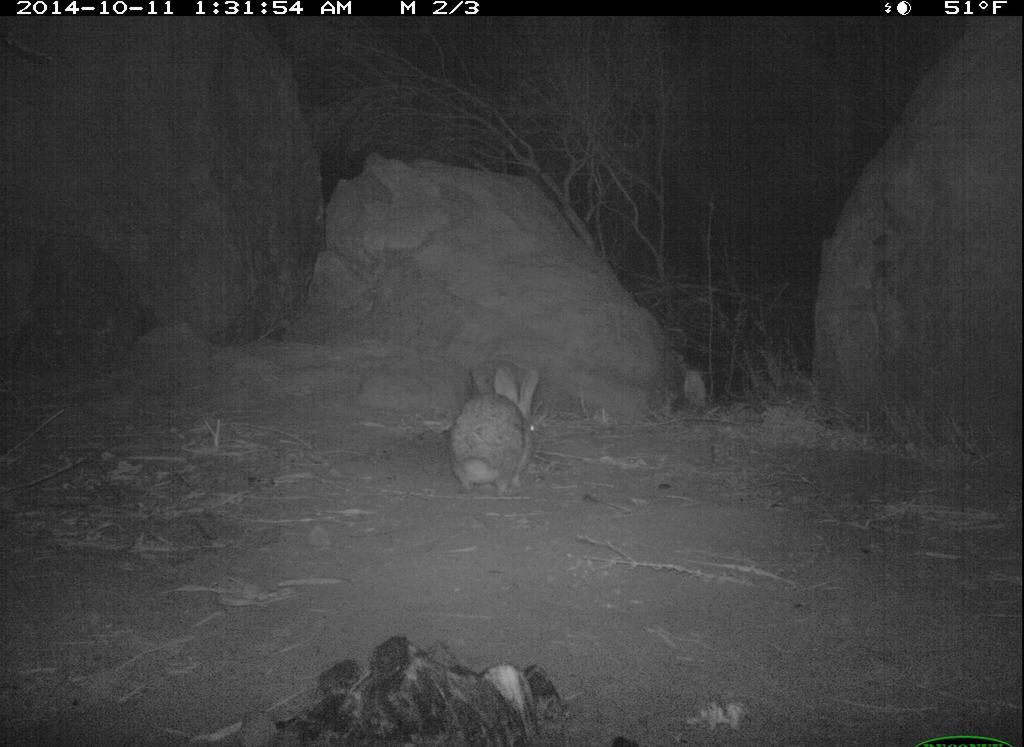rabbit: (381, 349, 571, 513)
